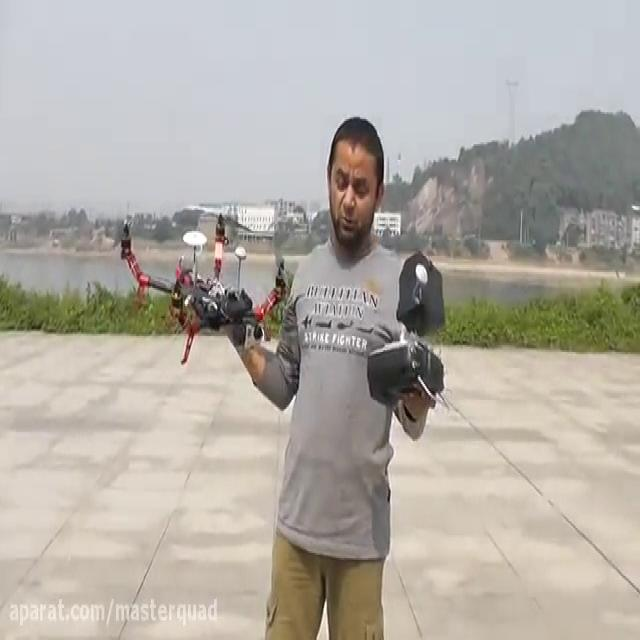drone: (112, 210, 291, 364)
